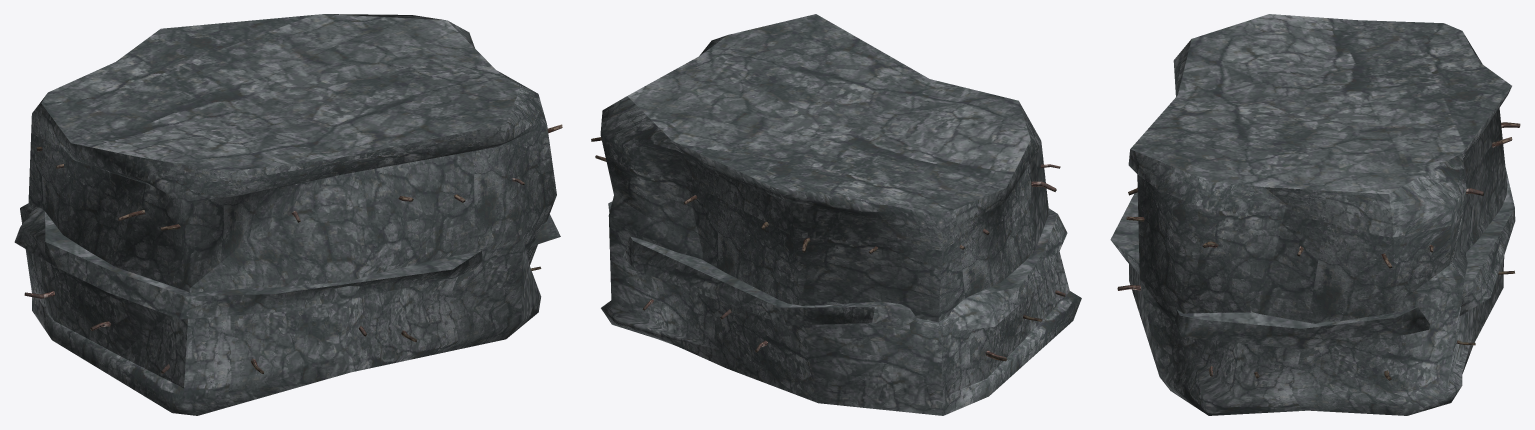
The model's file is Rubble1.fbx.
The picture shows the model from 3 angles, left to right: view 1: azimuth 30°, elevation 25°; view 2: azimuth 150°, elevation 25°; view 3: azimuth 270°, elevation 25°; orthographic projection. The views are drawn at different scales.
Parts seen in each view (by area): view 1: SMO_BG50_Rubble_0100; view 2: SMO_BG50_Rubble_0100; view 3: SMO_BG50_Rubble_0100.
Part boxes in pixels (<box>): SMO_BG50_Rubble_0100: <box>14,14,562,415</box>; SMO_BG50_Rubble_0100: <box>591,14,1081,415</box>; SMO_BG50_Rubble_0100: <box>1110,14,1520,415</box>.
Bounding box in the file's own units: 251 × 125 × 200.
Materials: 3 (3 with a texture image).
